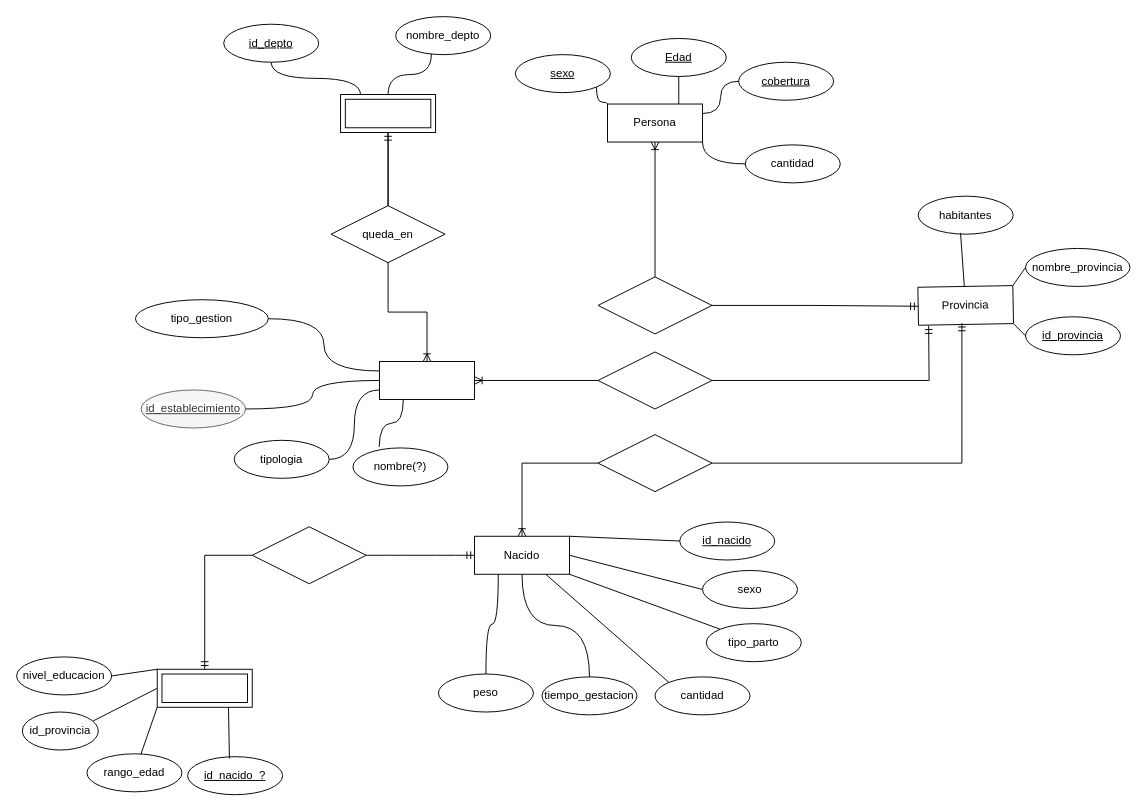
This 1147x811 diagram has some shape labels left out. Each missing label, with the centre of its shape:
"centro_medico" belongs at (x=427, y=380).
"Departamento" belongs at (x=388, y=113).
"esta_en" belongs at (x=654, y=380).
"hijo_de" belongs at (x=308, y=555).
"Madre(?)" belongs at (x=204, y=687).
"nacio_en" belongs at (x=654, y=463).
"vive_en" belongs at (x=654, y=305).
